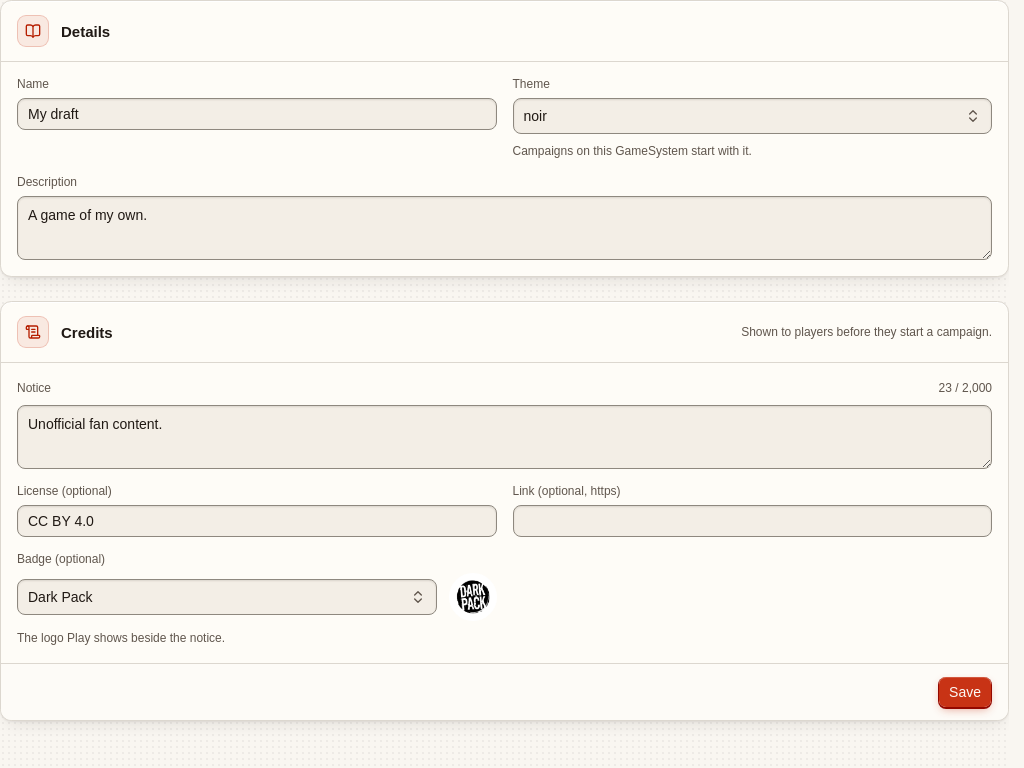
the credits badge › needs a notice, like the license and the link
Clear the field labelled "License (optional)". click: (257, 521)
box: [17,505,496,537]
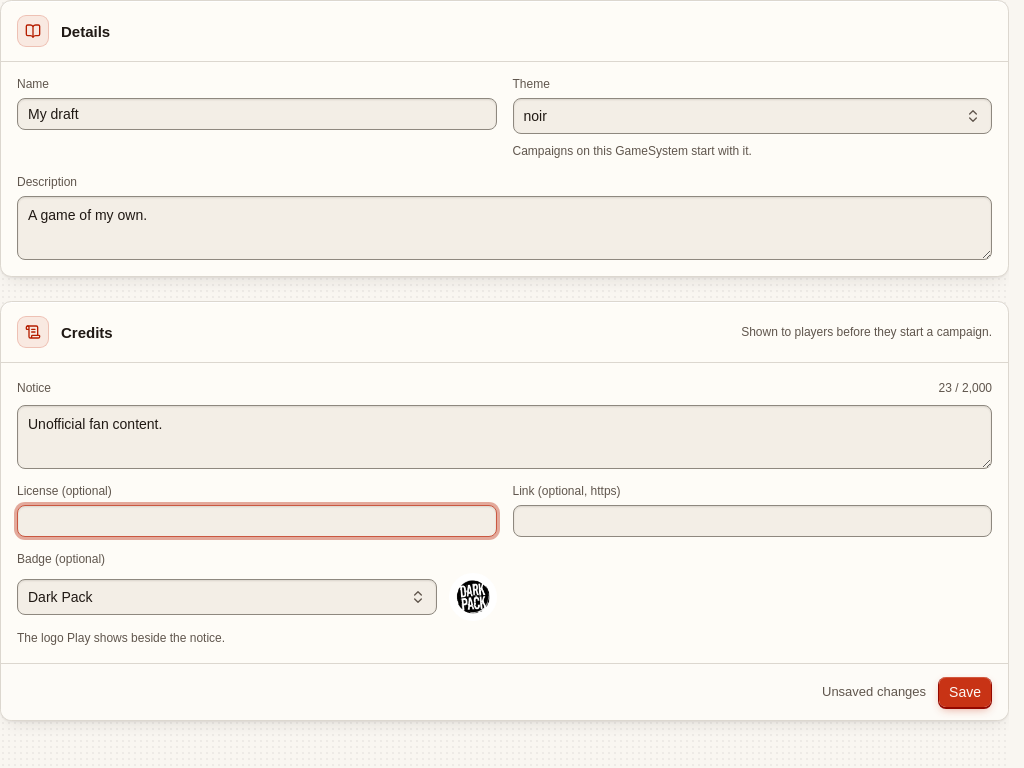
Clear the text box labelled "Notice". click: (504, 437)
box: [17,405,992,469]
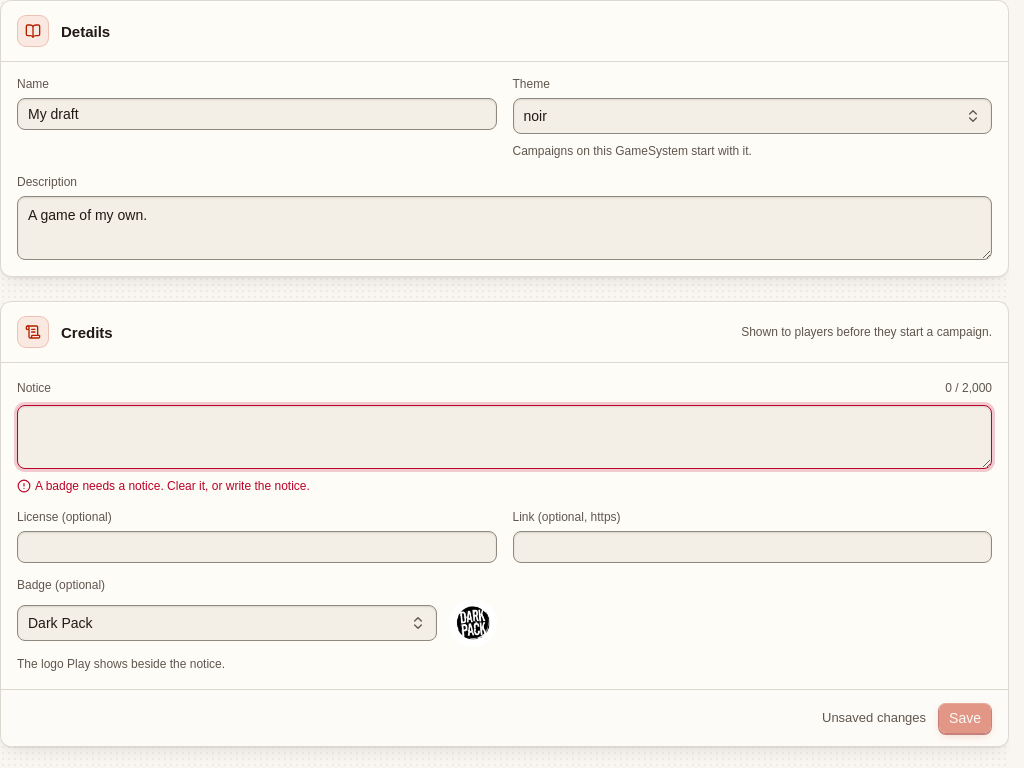
Result: the text "A badge needs a notice. Clear it, or write the notice." is shown at [17,479,310,493]
Result: the button "Save" is disabled at [938,702,992,734]
Click the dropdown named "Badge (optional)". click: click(60, 623)
box: [17,605,436,641]
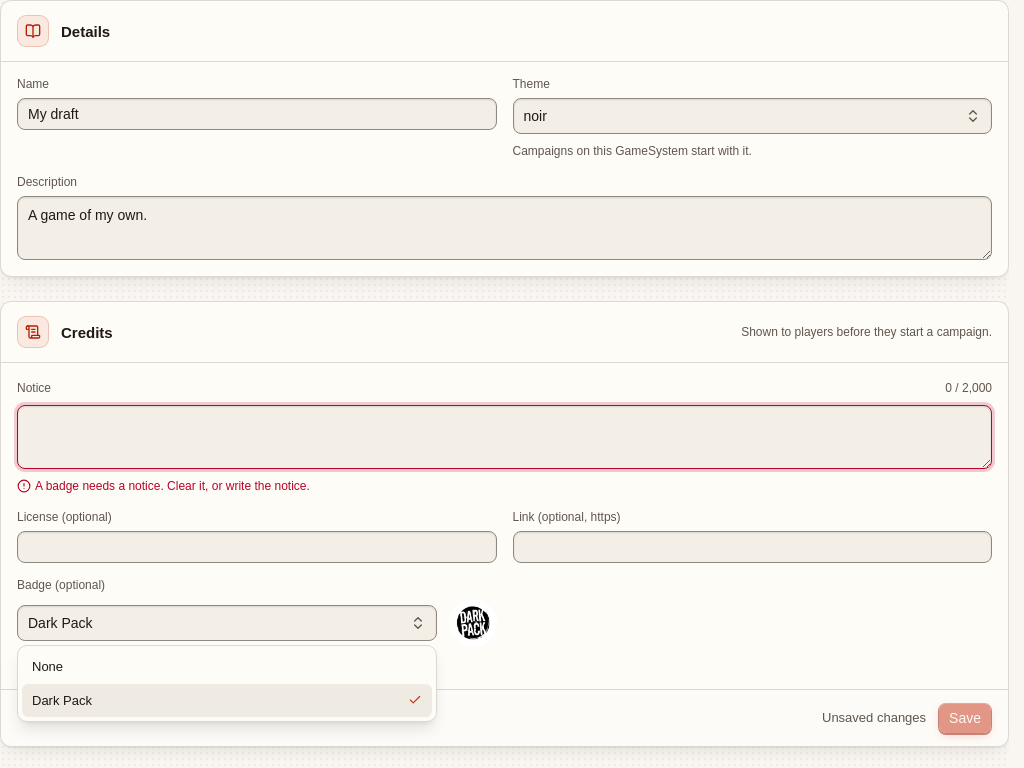
Click the option "None". click: click(48, 666)
box: [32,659,63,674]
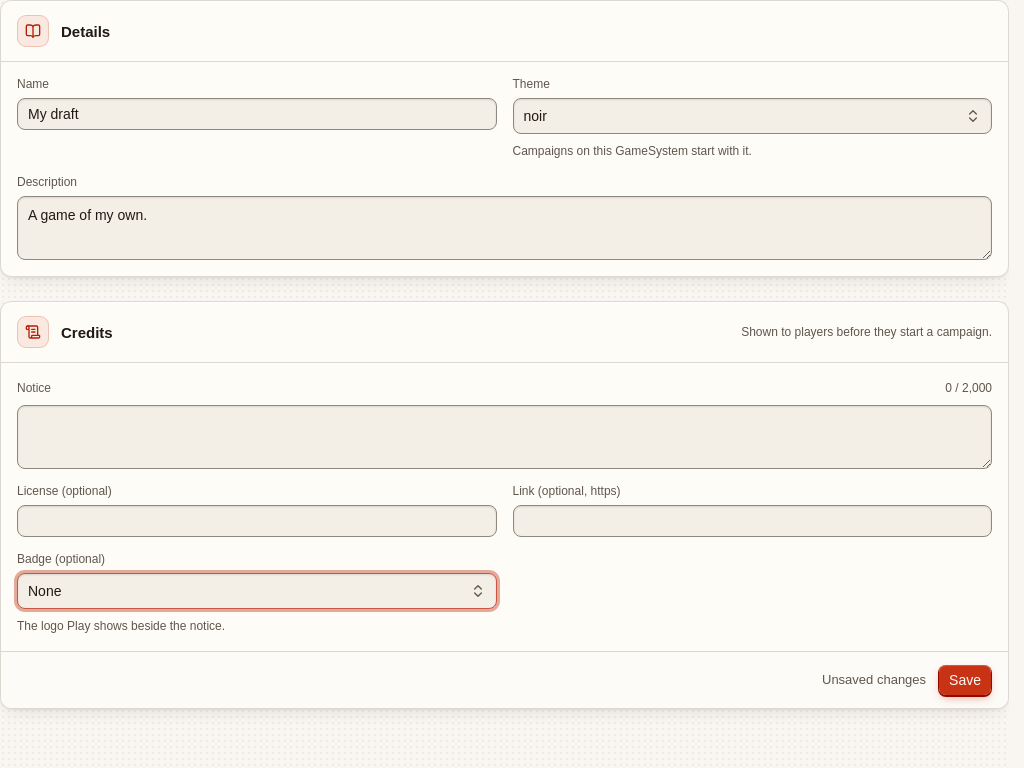
Result: the button "Save" is enabled at [938,664,992,696]
